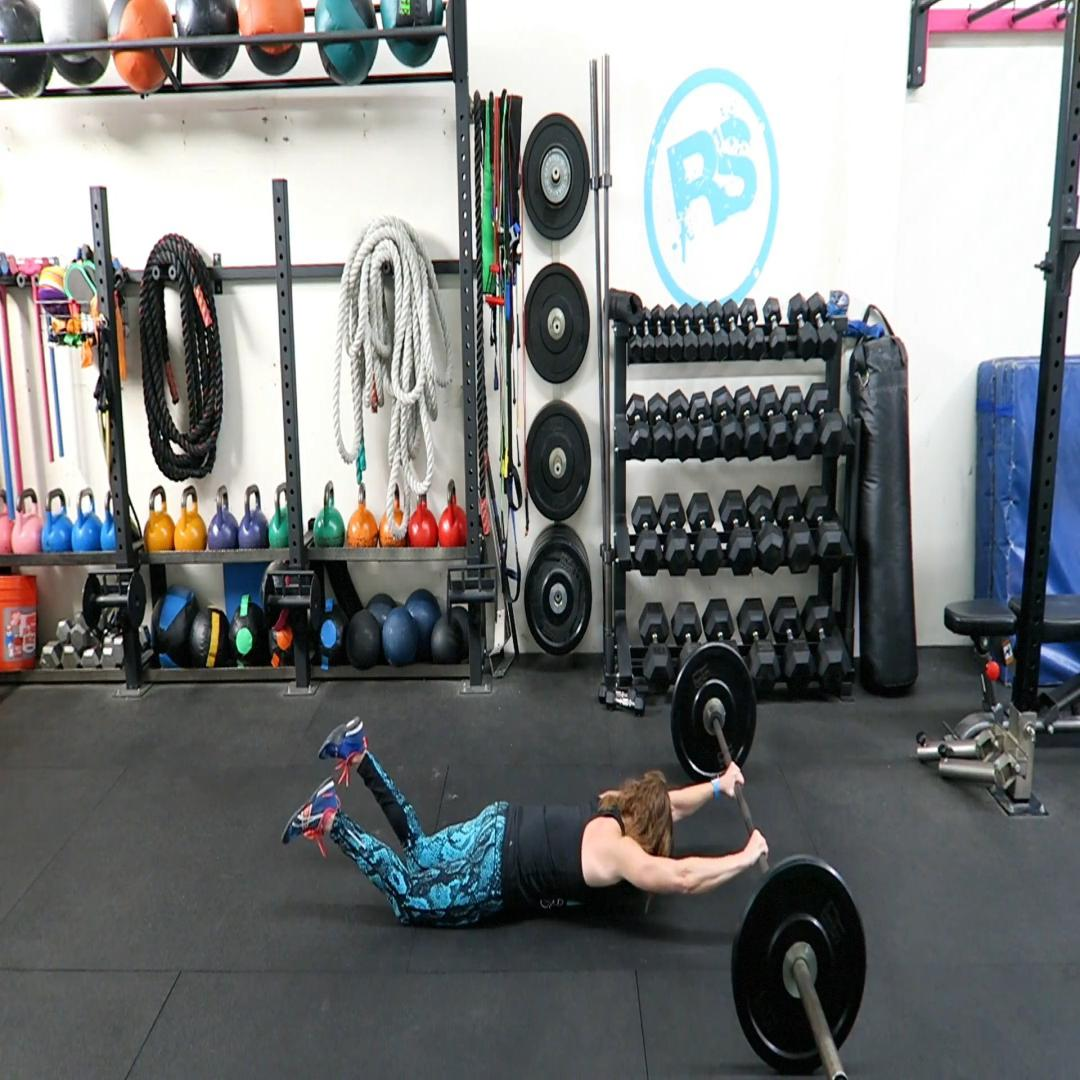Barbell: (731, 863, 867, 1076)
